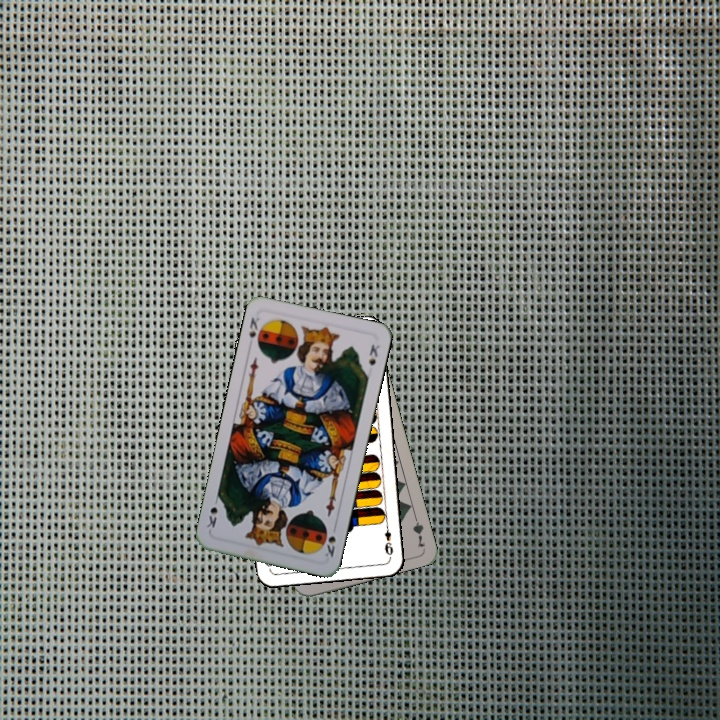E9: (381, 519, 396, 558)
G7: (409, 510, 428, 550)
SK: (321, 532, 338, 560), (245, 313, 262, 340)
